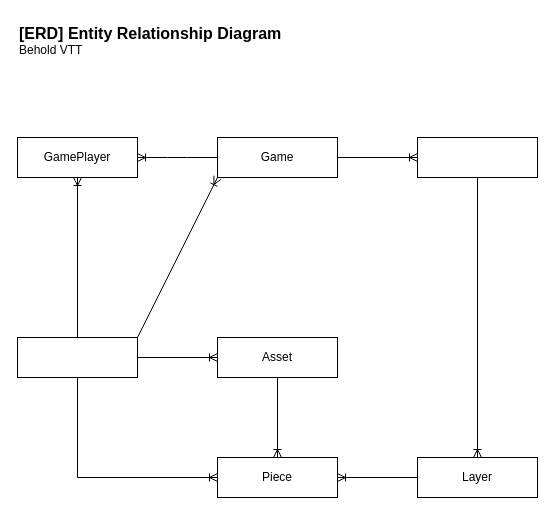
Some shapes in this 555 by 515 pixel diagram are drawn without their labels. The centre of each missing label's shape, as x and y in pixels:
"Scene" belongs at pixel 477 157.
"User" belongs at pixel 77 357.
